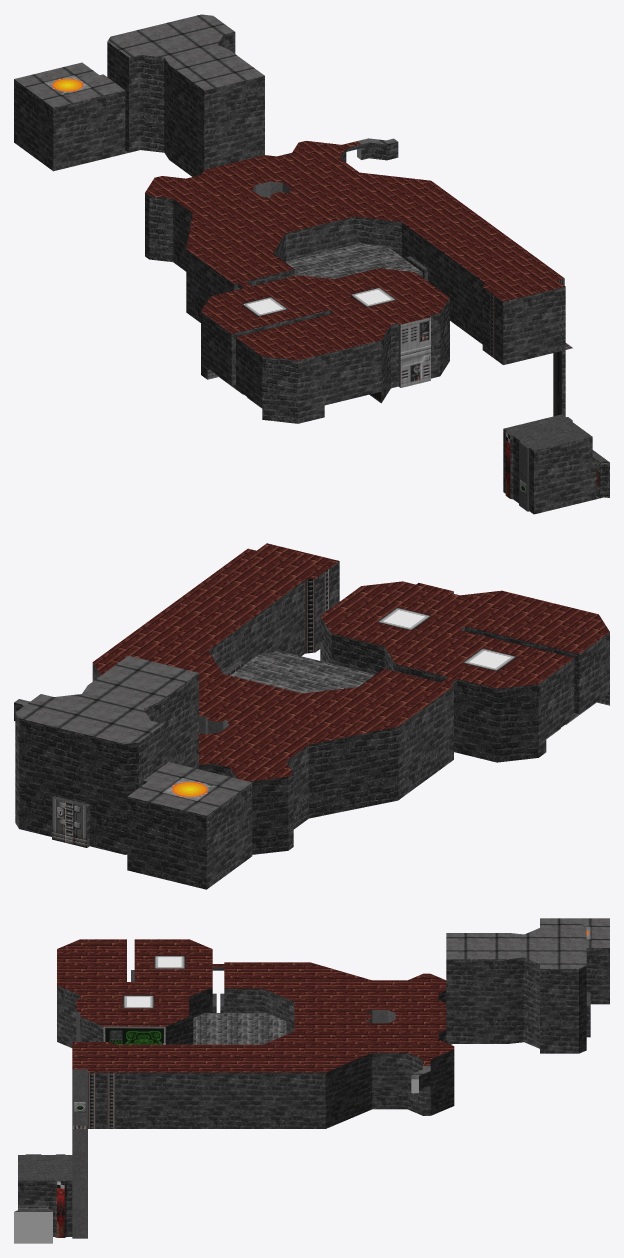
The model's file is map01_sect08.obj.
3 views of the same model, one above another, from view 1: azimuth 30°, elevation 25°; view 2: azimuth 150°, elevation 25°; view 3: azimuth 270°, elevation 25° (orthographic). The views are drawn at different scales.
Parts seen in each view (by area): view 1: MAP01; view 2: MAP01; view 3: MAP01.
Part boxes in pixels (<box>): MAP01: <box>14,14,609,514</box>; MAP01: <box>14,543,609,889</box>; MAP01: <box>14,918,609,1243</box>.
Bounding box in the file's own units: 1360 × 1088 × 2448.
